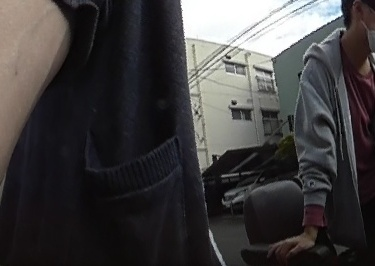person: (282, 0, 375, 261)
